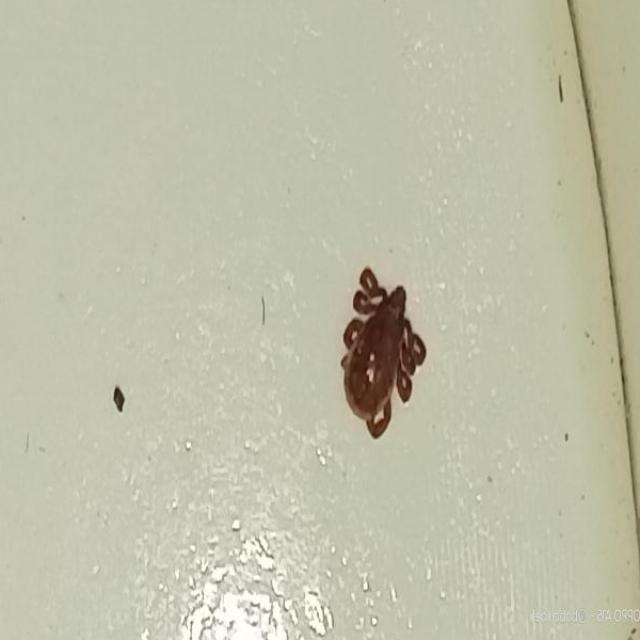Rhipicephalus Sanguineus-M: (339, 268, 428, 441)
